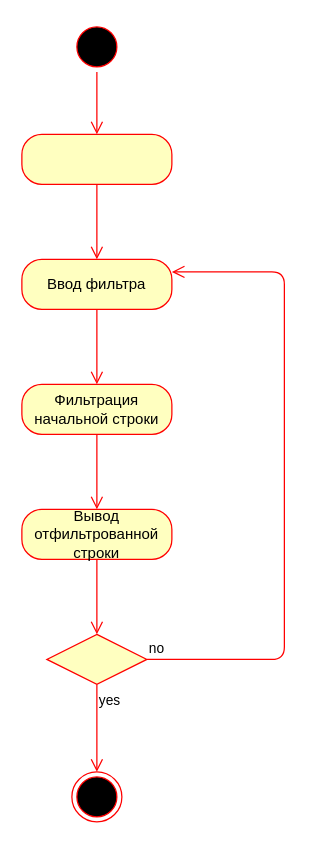
Some shapes in this 319 by 844 pixel diagram are drawn without their labels. Here are the shapes that lost their labels. From the top down, the centre of each, then its label:
At point 96,158: "Генерация строки".
At point 96,658: "Конец ?".
